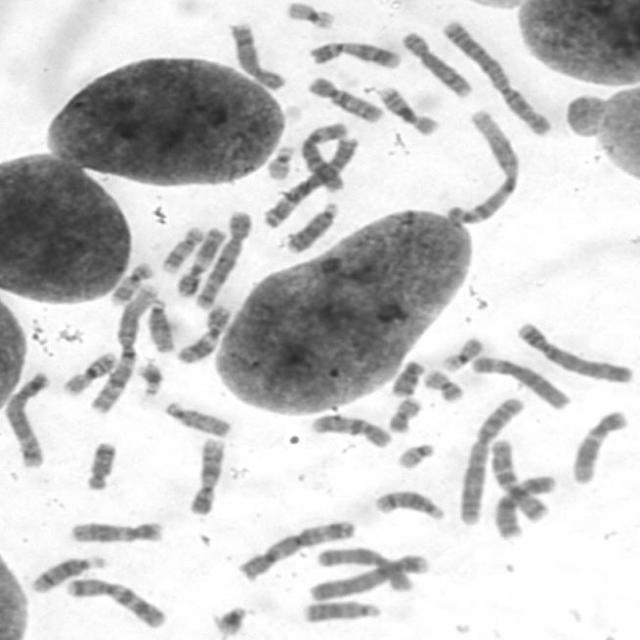A1: (88, 282, 161, 413), (441, 108, 522, 226)
A2: (438, 15, 554, 138), (455, 393, 526, 528)
A3: (260, 132, 360, 230), (234, 516, 358, 582)
B4: (514, 319, 636, 385), (309, 548, 429, 600)
B5: (191, 207, 253, 310), (2, 368, 54, 468)
C10: (303, 73, 384, 124), (307, 411, 394, 450)
C11: (173, 224, 229, 298), (175, 302, 232, 365)
C12: (569, 406, 630, 485), (66, 518, 164, 545)
C6: (469, 352, 573, 411), (296, 119, 349, 193)
C7: (63, 573, 170, 630), (488, 437, 552, 522)
C8: (398, 26, 476, 98), (227, 19, 289, 91)
C9: (184, 434, 227, 515), (303, 37, 403, 71)
D13: (281, 198, 340, 254), (298, 597, 383, 625)
D14: (27, 552, 108, 594), (370, 486, 448, 522)
D15: (160, 397, 233, 438), (144, 294, 176, 354)
E16: (373, 82, 441, 137), (61, 349, 118, 396)
E17: (158, 222, 206, 274), (108, 258, 156, 305)
E18: (83, 437, 120, 492), (387, 357, 427, 398)
F19: (436, 334, 486, 373), (282, 0, 337, 31)
F20: (419, 367, 465, 403), (385, 395, 423, 434)
G21: (209, 601, 249, 637), (134, 358, 165, 398)
G22: (393, 441, 436, 472), (264, 143, 296, 181)
X: (314, 542, 417, 594), (491, 471, 559, 542)
